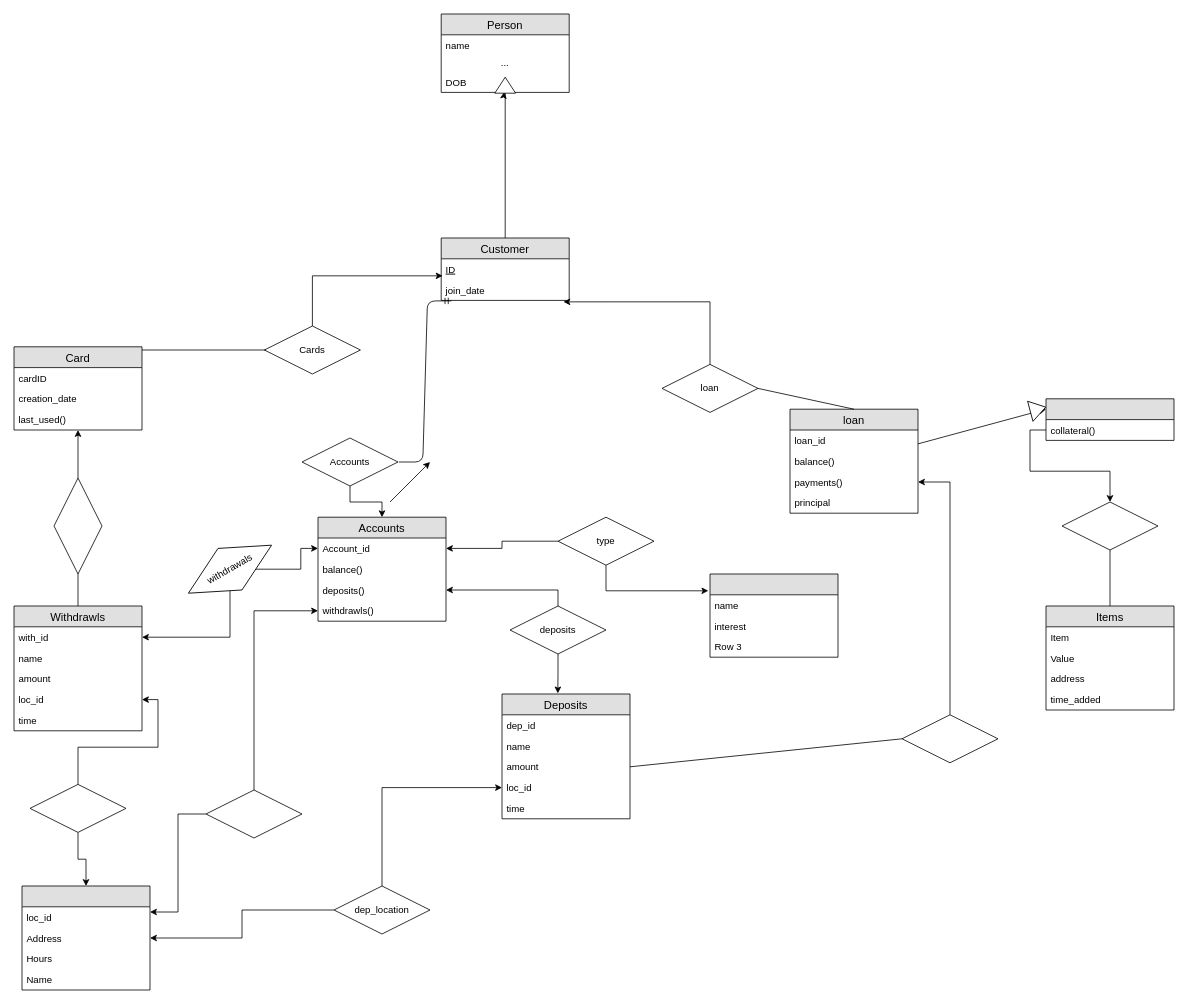
The diagram is 1188 pixels wide and 1006 high, and some of its shapes have lost their labels. The box of each missing label's shape, as (x1, y1, x2, y2) in pixels:
account_locations: (205, 789, 302, 838)
AccountType: (709, 573, 838, 657)
Card Charges: (53, 477, 102, 574)
collateral: (1061, 501, 1158, 550)
Loan Payment: (901, 714, 998, 763)
Locations: (21, 885, 150, 990)
Unsecured Loan: (1045, 398, 1174, 440)
with_location: (29, 784, 126, 832)
